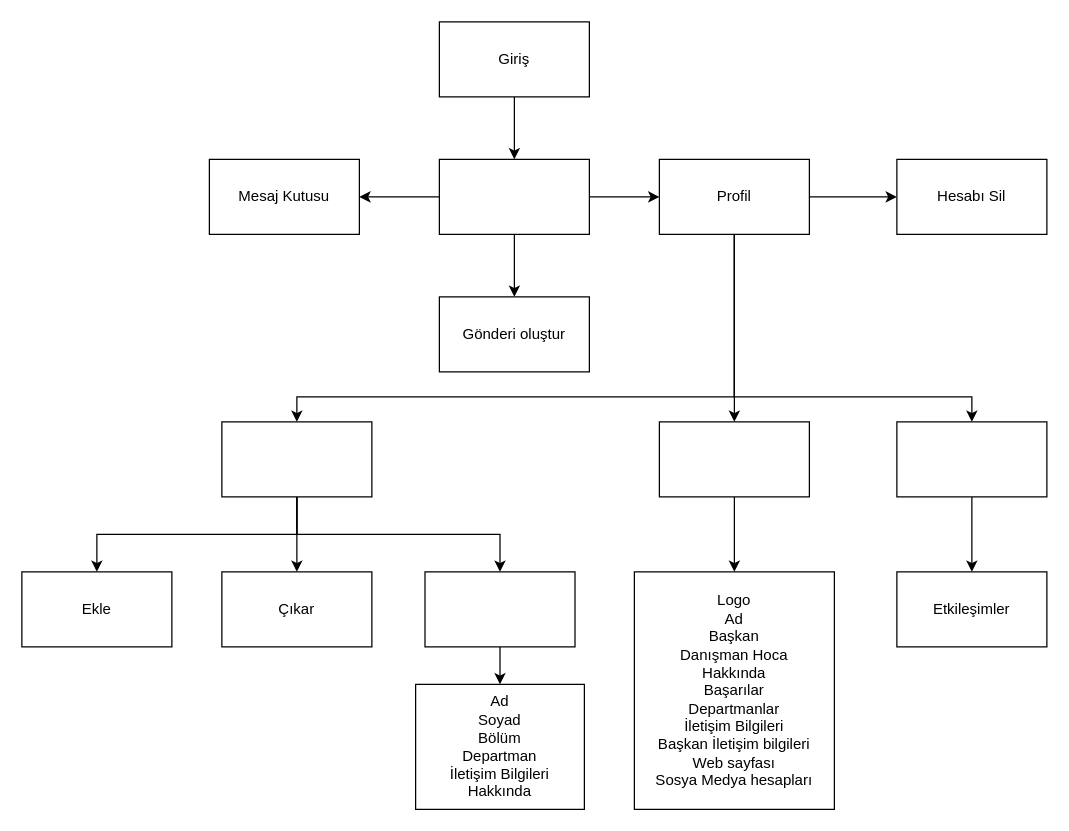
This 1069x831 diagram has some shape labels left out. The shapes that lost their labels are listed below. From the top down, each one's centre as x and y in pixels, then its label:
At (x=513, y=196): "Ana Sayfa Akışır".
At (x=296, y=459): "Ekip Üyeler".
At (x=733, y=459): "Bilgileri Güncelle".
At (x=971, y=459): "İstatistikler Dashboard".
At (x=499, y=609): "Bilgilerini Güncelle".
